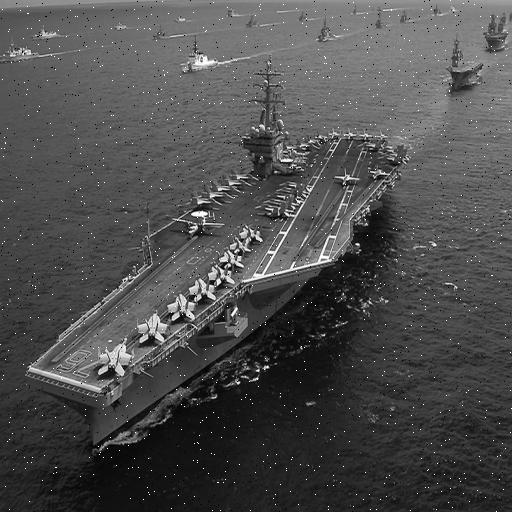Portanaves: (22, 54, 422, 465), (442, 35, 487, 92), (480, 7, 512, 53)
